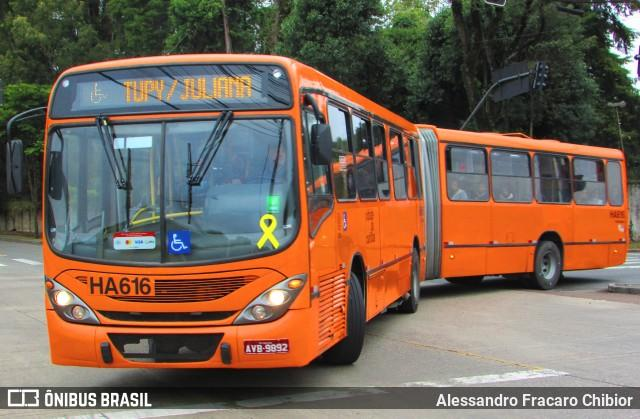TUPY JULIANA: (121, 72, 255, 108)
